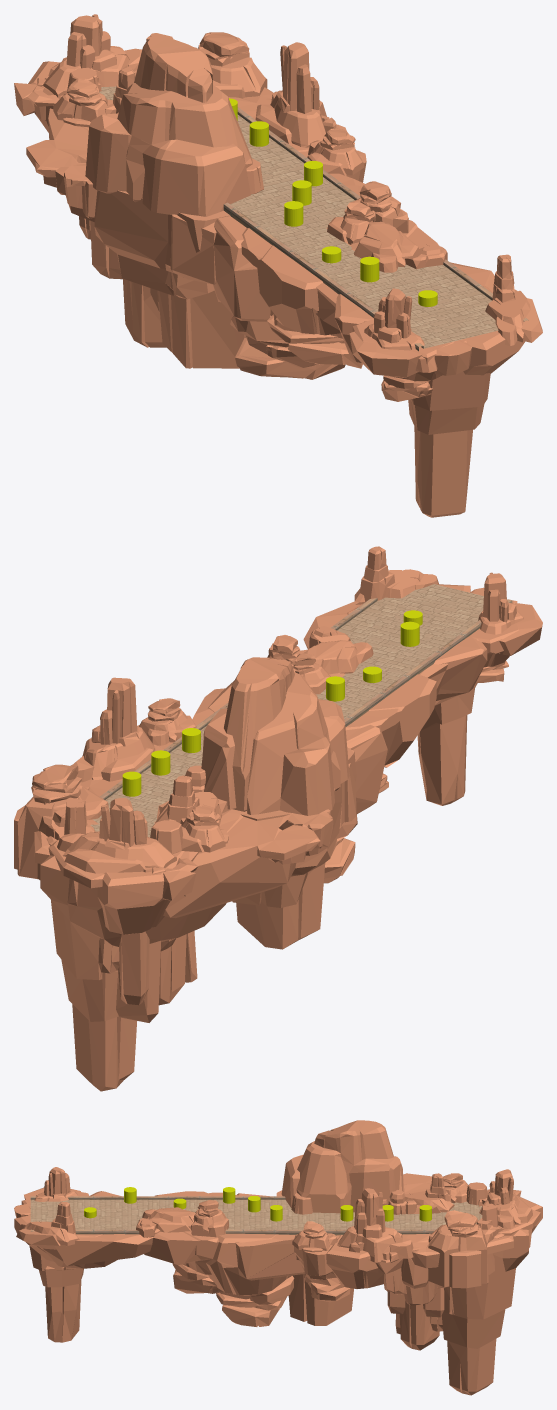
The model's file is road_5_block_D.fbx.
3 renders of one model, top to bottom at view 1: azimuth 30°, elevation 25°; view 2: azimuth 150°, elevation 25°; view 3: azimuth 270°, elevation 25°, orthographic. The views are drawn at different scales.
Visible parts, largest first — view 1: road_5_block_D_standie, road_5_block_D; view 2: road_5_block_D_standie, road_5_block_D; view 3: road_5_block_D_standie, road_5_block_D.
Boxes of the visible parts, bbox=[...] form: road_5_block_D_standie: bbox=[14, 14, 542, 517]; road_5_block_D: bbox=[99, 86, 528, 351]; road_5_block_D_standie: bbox=[14, 546, 542, 1091]; road_5_block_D: bbox=[90, 584, 512, 837]; road_5_block_D_standie: bbox=[14, 1120, 542, 1395]; road_5_block_D: bbox=[30, 1196, 482, 1235].
Size of the model in its own units: 2380 by 3108 by 6147.
